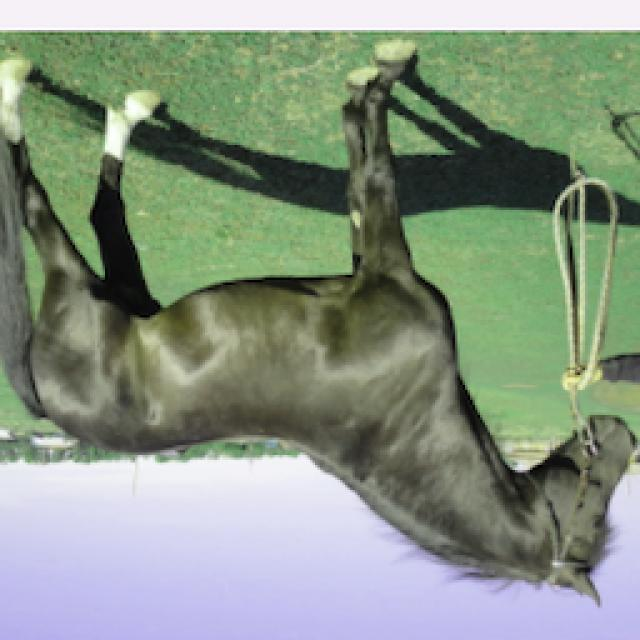Horse: (2, 40, 640, 612)
